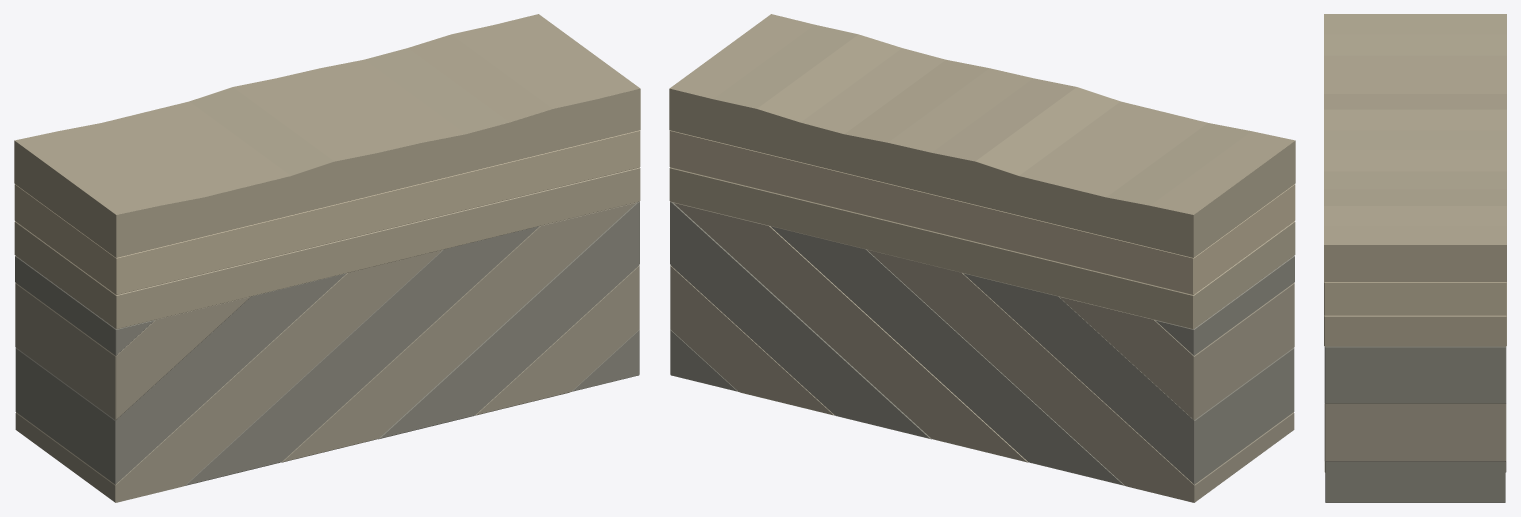
Rendered from angular-unconformity-outcrop.glb.
3 views of the same model, side by side, from view 1: azimuth 30°, elevation 25°; view 2: azimuth 150°, elevation 25°; view 3: azimuth 270°, elevation 25° (orthographic). The views are drawn at different scales.
Parts seen in each view (by area): view 1: Younger near-horizontal cover bed 02, Younger near-horizontal cover bed 01, Younger near-horizontal cover bed 00, Older tilted bed 05, Older tilted bed 06, Older tilted bed 03, Older tilted bed 04, Older tilted bed 02, Older tilted bed 07, Older tilted bed 01, Older tilted bed 08, Older tilted bed 00; view 2: Younger near-horizontal cover bed 02, Younger near-horizontal cover bed 01, Younger near-horizontal cover bed 00, Older tilted bed 05, Older tilted bed 06, Older tilted bed 03, Older tilted bed 04, Older tilted bed 02, Older tilted bed 07, Older tilted bed 01, Older tilted bed 08, Older tilted bed 00; view 3: Younger near-horizontal cover bed 02, Older tilted bed 01, Older tilted bed 02, Older tilted bed 00, Younger near-horizontal cover bed 01, Younger near-horizontal cover bed 00.
Boxes of the visible parts, x1,y1,x2,y2 form: Younger near-horizontal cover bed 02: (14,14,640,257); Younger near-horizontal cover bed 01: (14,130,640,294); Younger near-horizontal cover bed 00: (14,167,640,329); Older tilted bed 05: (15,249,442,502); Older tilted bed 06: (15,273,346,484); Older tilted bed 03: (281,202,636,462); Older tilted bed 04: (185,226,539,485); Older tilted bed 02: (378,202,639,439); Older tilted bed 07: (15,282,250,420); Older tilted bed 01: (475,265,639,415); Older tilted bed 08: (15,255,154,355); Older tilted bed 00: (571,329,639,391); Younger near-horizontal cover bed 02: (669,14,1295,257); Younger near-horizontal cover bed 01: (669,130,1295,294); Younger near-horizontal cover bed 00: (669,167,1295,329); Older tilted bed 05: (867,249,1294,502); Older tilted bed 06: (963,273,1294,484); Older tilted bed 03: (673,202,1028,462); Older tilted bed 04: (770,226,1124,485); Older tilted bed 02: (670,202,931,439); Older tilted bed 07: (1059,282,1294,420); Older tilted bed 01: (670,265,834,415); Older tilted bed 08: (1155,255,1294,355); Older tilted bed 00: (670,329,738,391); Younger near-horizontal cover bed 02: (1324,14,1506,282); Older tilted bed 01: (1324,403,1506,472); Older tilted bed 02: (1324,346,1506,403); Older tilted bed 00: (1325,461,1505,502); Younger near-horizontal cover bed 01: (1324,282,1506,315); Younger near-horizontal cover bed 00: (1324,315,1506,346).
Bounding box in the file's own units: 0.85 × 0.4481 × 0.286.
